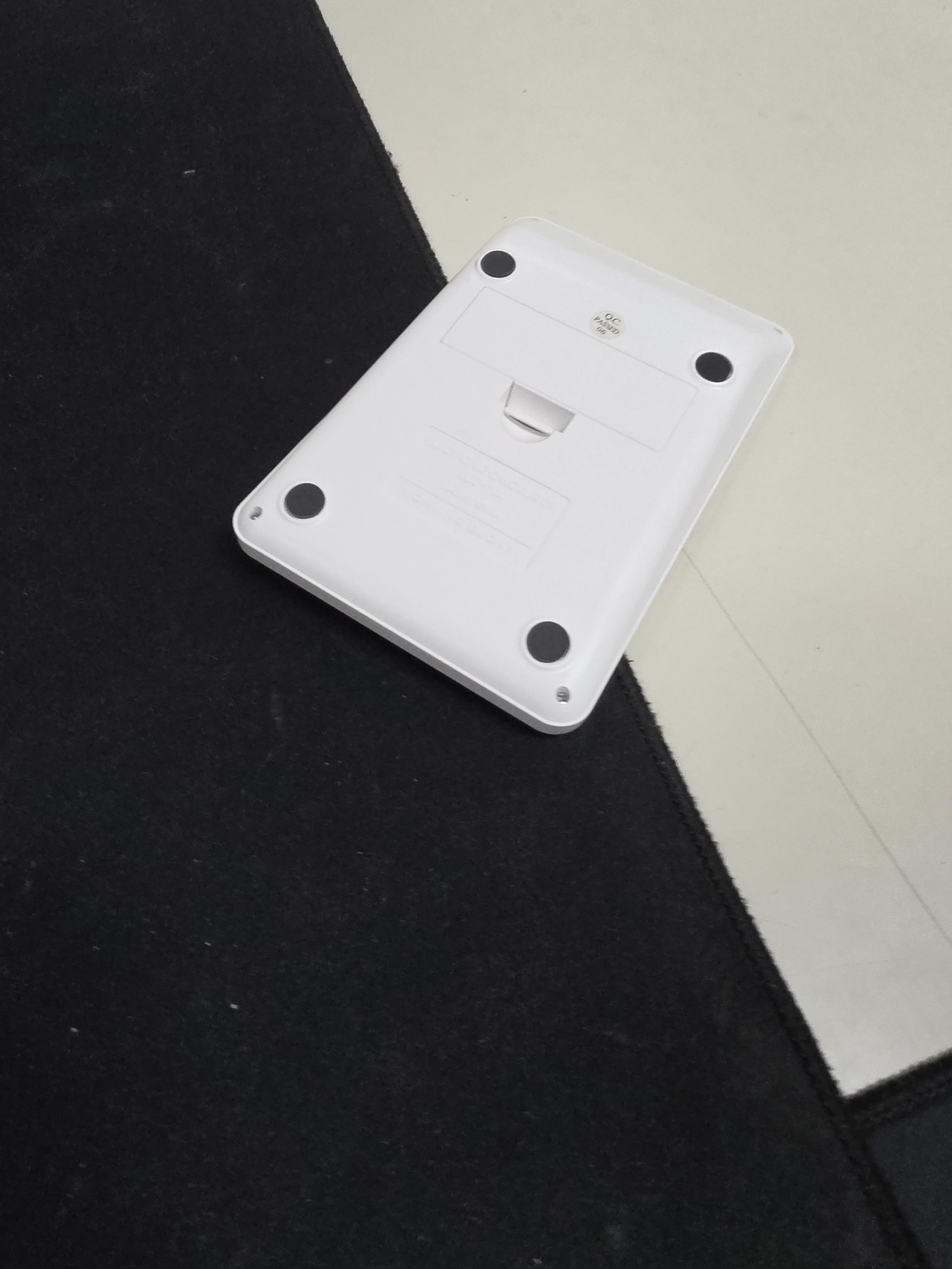calculator: (232, 216, 795, 735)
